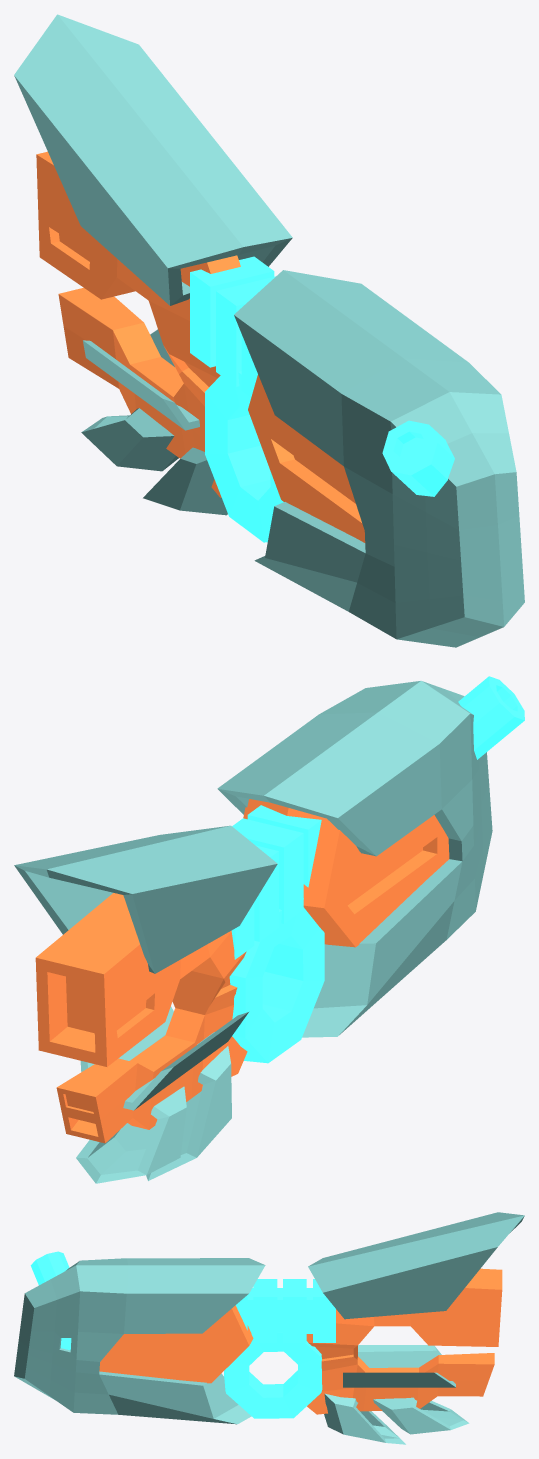
The model's file is ARM02.fbx.
The picture shows the model from 3 angles, top to bottom: view 1: azimuth 30°, elevation 25°; view 2: azimuth 150°, elevation 25°; view 3: azimuth 270°, elevation 25°; orthographic projection. The views are drawn at different scales.
Parts seen in each view (by area): view 1: Plane.002; view 2: Plane.002; view 3: Plane.002.
Boxes of the visible parts, x1,y1,x2,y2 form: Plane.002: [14, 14, 524, 647]; Plane.002: [14, 676, 524, 1183]; Plane.002: [14, 1212, 524, 1444].
Bounding box in the file's own units: 29.54 × 77.24 × 155.
